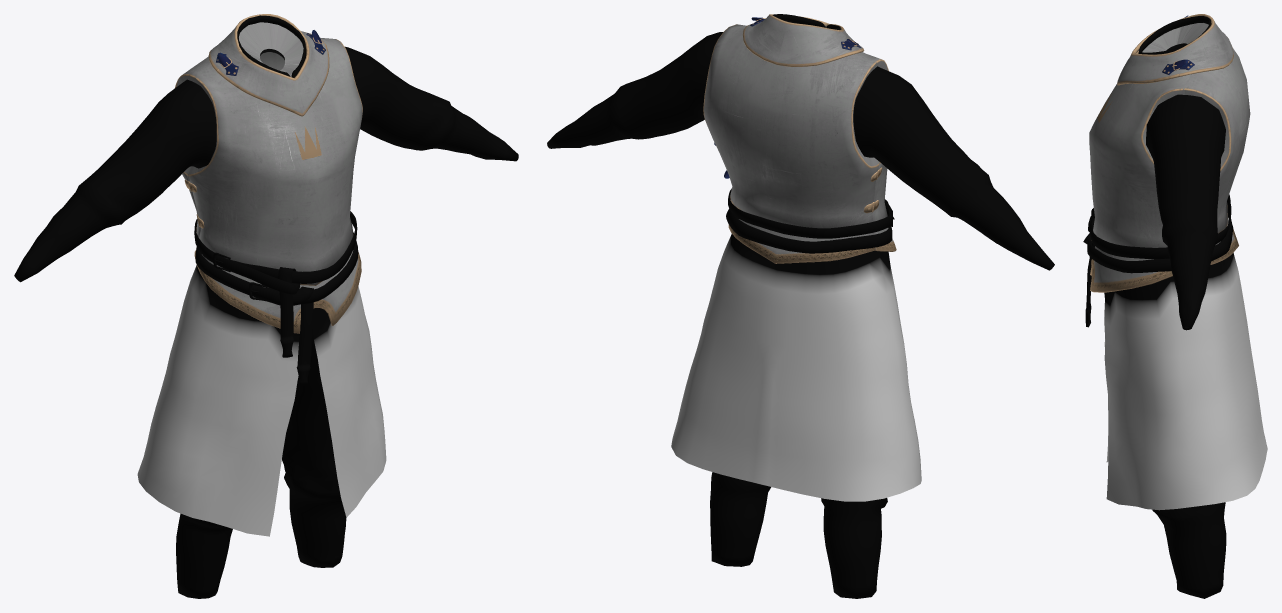
File: swan_knight_armor_2a_t1_slim.fbx
The picture shows the model from 3 angles, left to right: view 1: azimuth 30°, elevation 25°; view 2: azimuth 150°, elevation 25°; view 3: azimuth 270°, elevation 25°; orthographic projection. The views are drawn at different scales.
Parts seen in each view (by area): view 1: swan_knight_armor_2a_t1_slim.0, swan_knight_armor_2a_t1_slim.1; view 2: swan_knight_armor_2a_t1_slim.0, swan_knight_armor_2a_t1_slim.1; view 3: swan_knight_armor_2a_t1_slim.0, swan_knight_armor_2a_t1_slim.1.
Boxes of the visible parts, x1=… form: swan_knight_armor_2a_t1_slim.0: x1=14, y1=15, x2=518, y2=598; swan_knight_armor_2a_t1_slim.1: x1=175, y1=14, x2=362, y2=333; swan_knight_armor_2a_t1_slim.0: x1=547, y1=14, x2=1054, y2=598; swan_knight_armor_2a_t1_slim.1: x1=703, y1=14, x2=896, y2=263; swan_knight_armor_2a_t1_slim.0: x1=1083, y1=16, x2=1267, y2=598; swan_knight_armor_2a_t1_slim.1: x1=1089, y1=14, x2=1250, y2=292.
Bounding box in the file's own units: 1.3 × 0.424 × 1.37.
